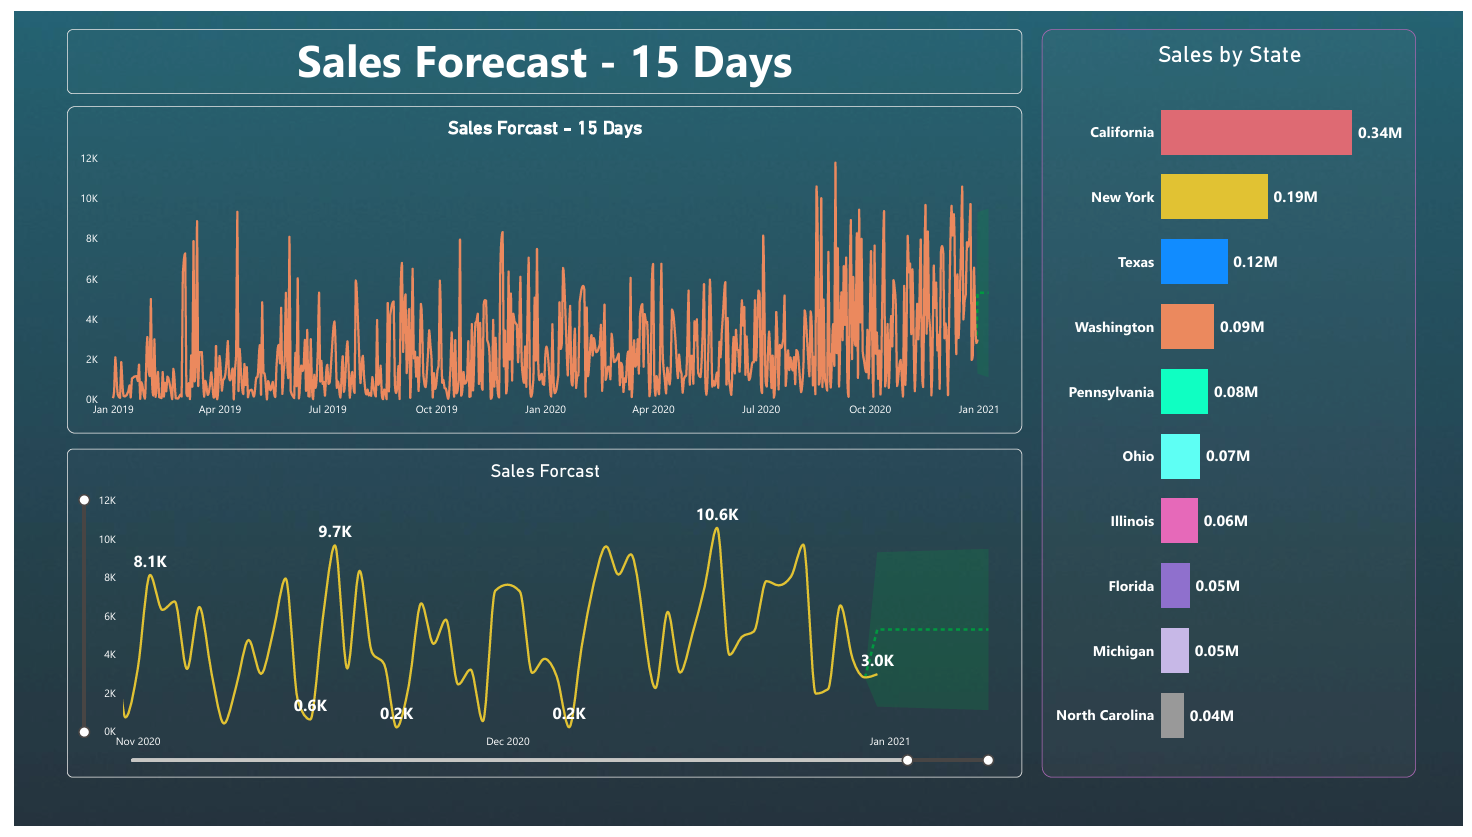

Layout of this report page (visuals, bound fields, positions):
{"tool":"powerbi","page":{"name":"Sales Forcast","canvas":[1920,1080],"ordinal":1},"visuals":[{"type":"lineChart","title":"Sales Forcast - 15 Days","fields":{"Y":["Sum(SuperStore_Sales_Dataset.Sales)"],"Category":["SuperStore_Sales_Dataset.Order Date"]},"box":[70,126,1266,434],"z":0},{"type":"lineChart","title":"Sales Forcast","fields":{"Y":["Sum(SuperStore_Sales_Dataset.Sales)"],"Category":["SuperStore_Sales_Dataset.Order Date"]},"box":[70,580,1266,436],"z":1000},{"type":"barChart","title":"Sales by State","fields":{"Category":["SuperStore_Sales_Dataset.State"],"Y":["Sum(SuperStore_Sales_Dataset.Sales)"]},"box":[1362,24,496,992],"z":2000},{"type":"textbox","box":[70,24,1266,86],"z":3000}]}

Visuals, with their boxes in screenshot pixels (x1, y1, x2, y2), scaled from the page's 1920x1080 canvas onto the 1472x837 screenshot:
"Sales Forcast - 15 Days" lineChart: bbox(54, 98, 1024, 434)
"Sales Forcast" lineChart: bbox(54, 450, 1024, 787)
"Sales by State" barChart: bbox(1044, 19, 1424, 787)
textbox: bbox(54, 19, 1024, 85)
